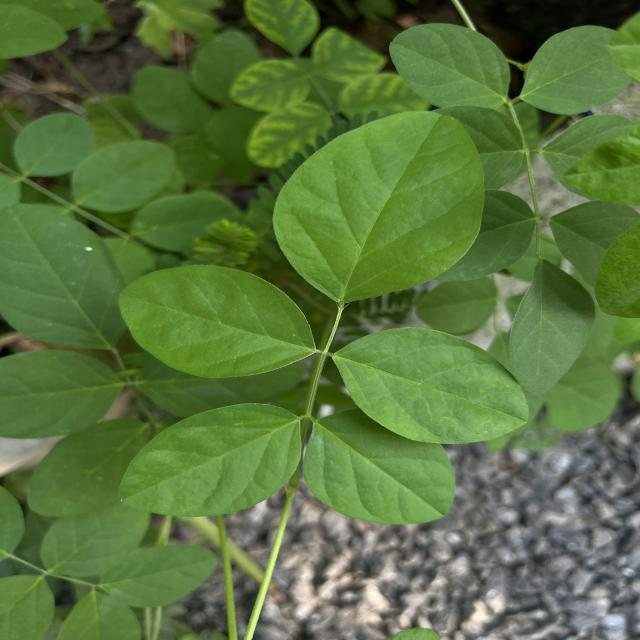Clitoria ternatea: (271, 108, 488, 306), (330, 324, 531, 446), (116, 262, 318, 380), (118, 402, 304, 518), (301, 409, 458, 526)
